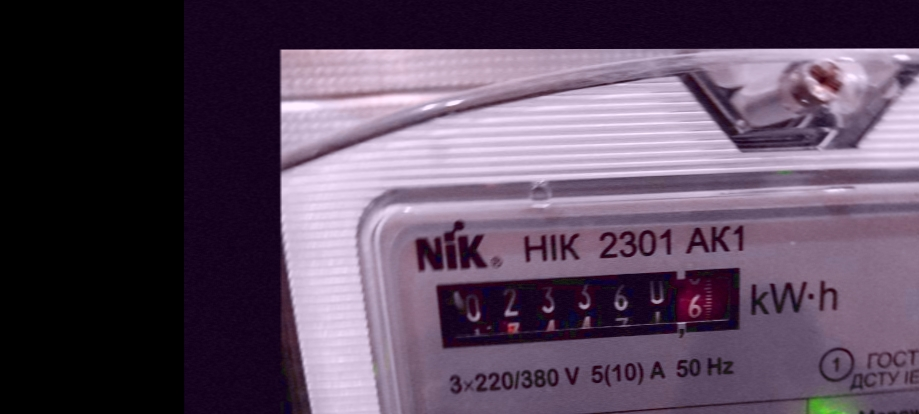0: (461, 291, 483, 325), (644, 277, 666, 308)
2: (500, 286, 520, 319)
3: (574, 279, 593, 312), (536, 285, 555, 316)
6: (609, 281, 630, 314), (684, 290, 705, 323)
screen: (419, 260, 757, 355)
